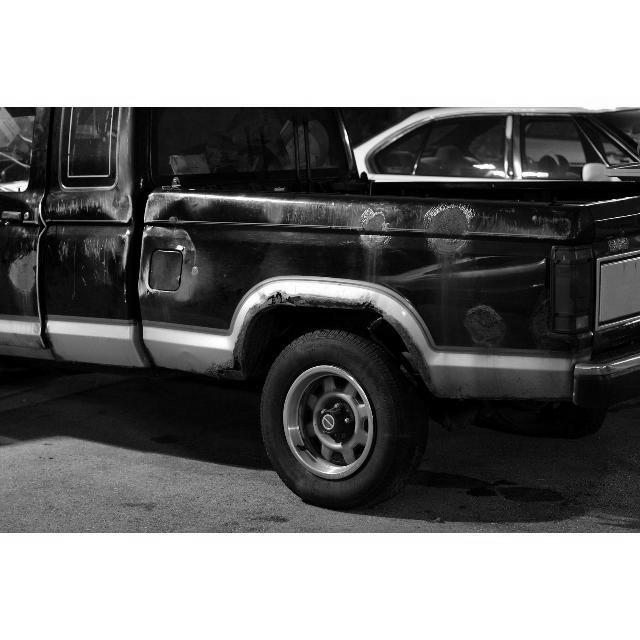doorouter-dent: (45, 203, 142, 345), (0, 191, 42, 339)
quaterpanel-dent: (161, 195, 527, 321)
